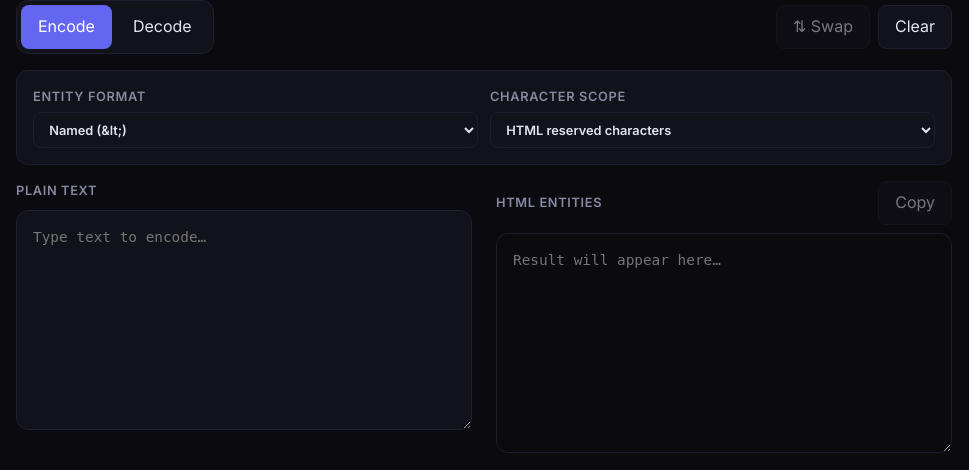
it: HtmlEntityTool conversion › encodes reserved characters in real time with named entities
Type "<&🚀" into the text box labelled "Plain text" at (244, 320), box x1=16 y1=210 x2=472 y2=430
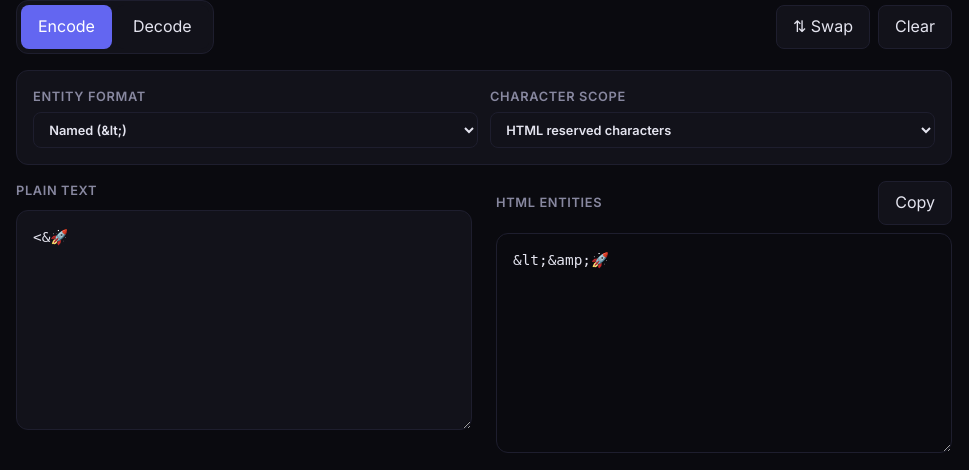
Check: the text box labelled "HTML entities" holds "&lt;&amp;🚀", box x1=496 y1=233 x2=952 y2=453
